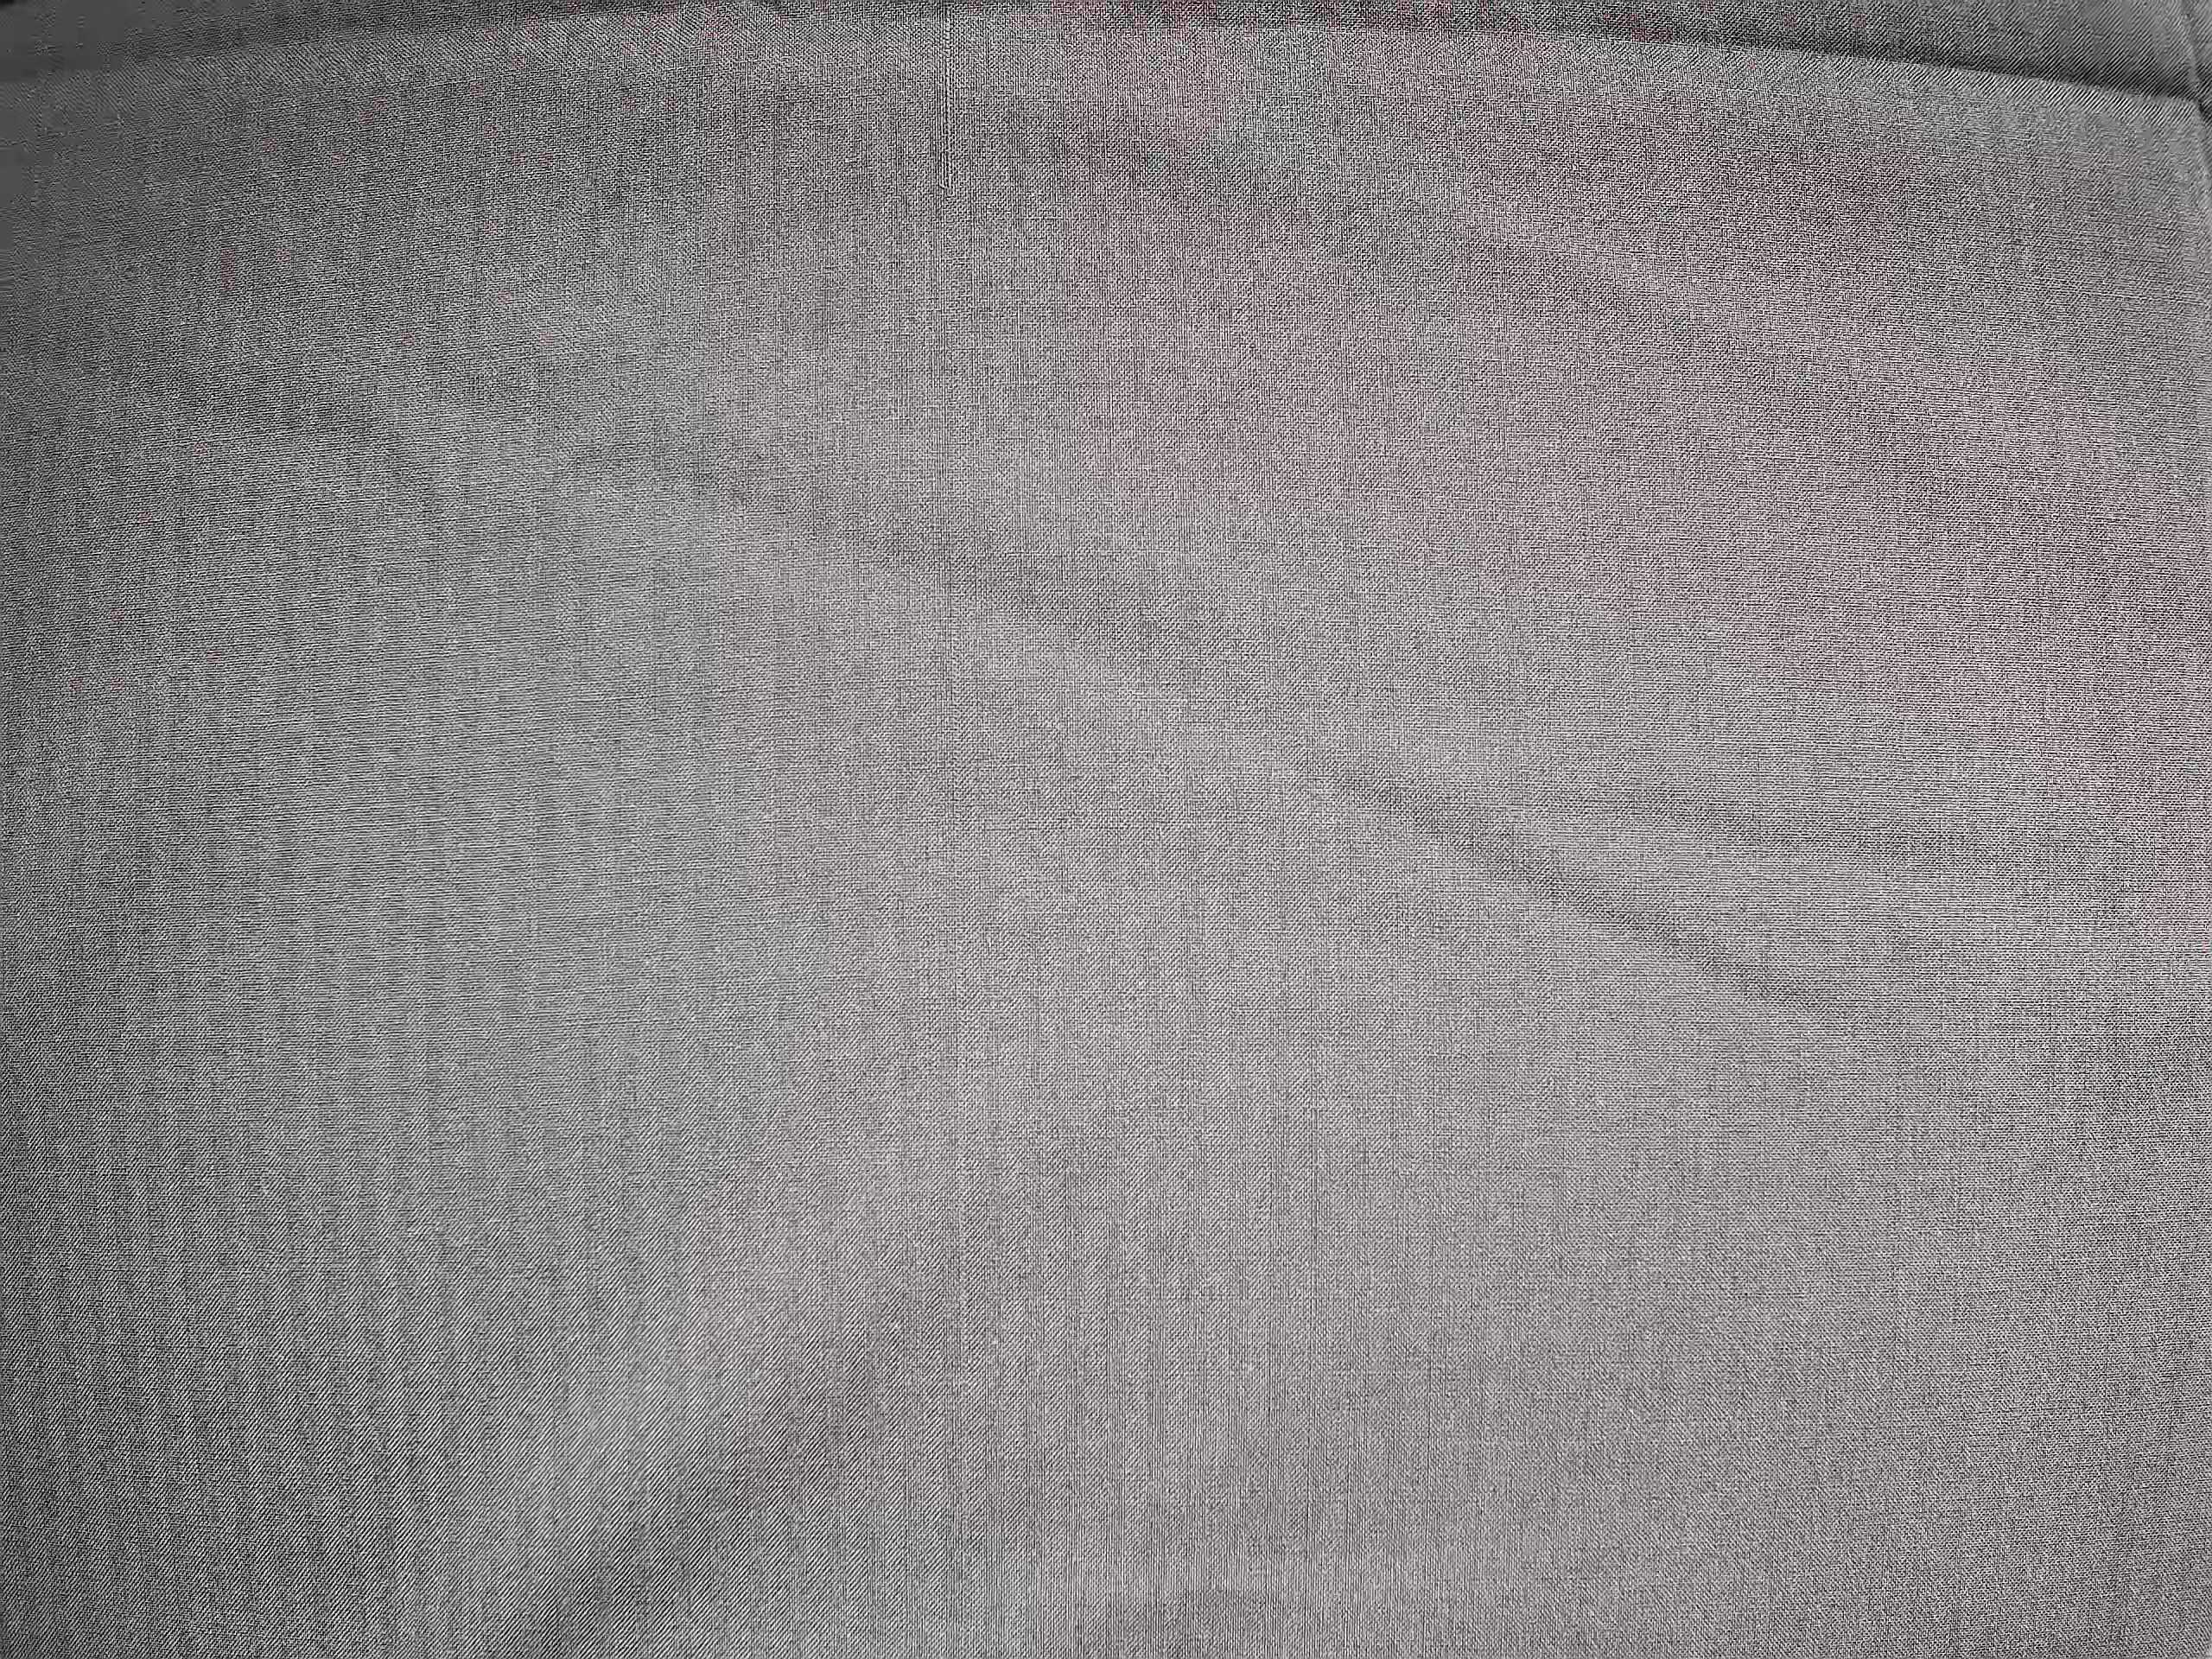hanging-warp: (928, 7, 963, 204)
